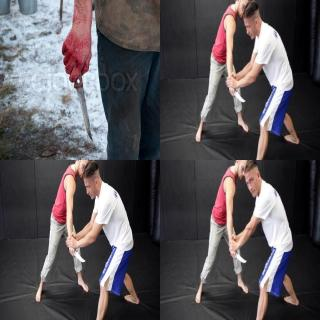knife: (60, 53, 95, 145), (226, 86, 246, 104), (66, 246, 86, 264), (228, 250, 248, 264)
